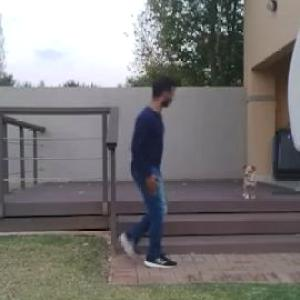follow: (128, 79, 179, 242)
